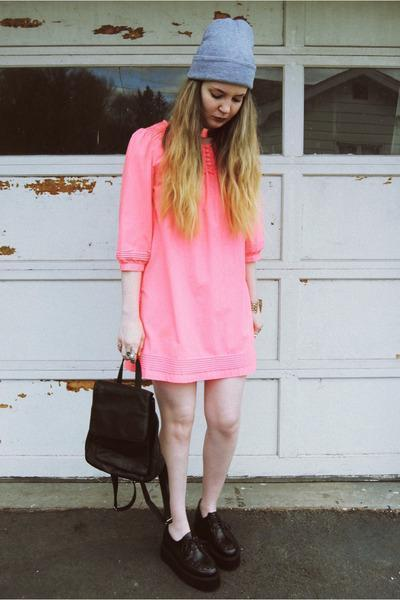bag: (84, 354, 168, 491)
hat: (186, 18, 255, 87)
shirt: (116, 120, 265, 392)
shoe: (159, 508, 240, 598)
